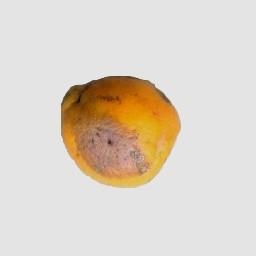Ripe: (61, 77, 179, 187)
